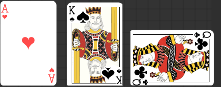AH: (0, 3, 9, 20)
